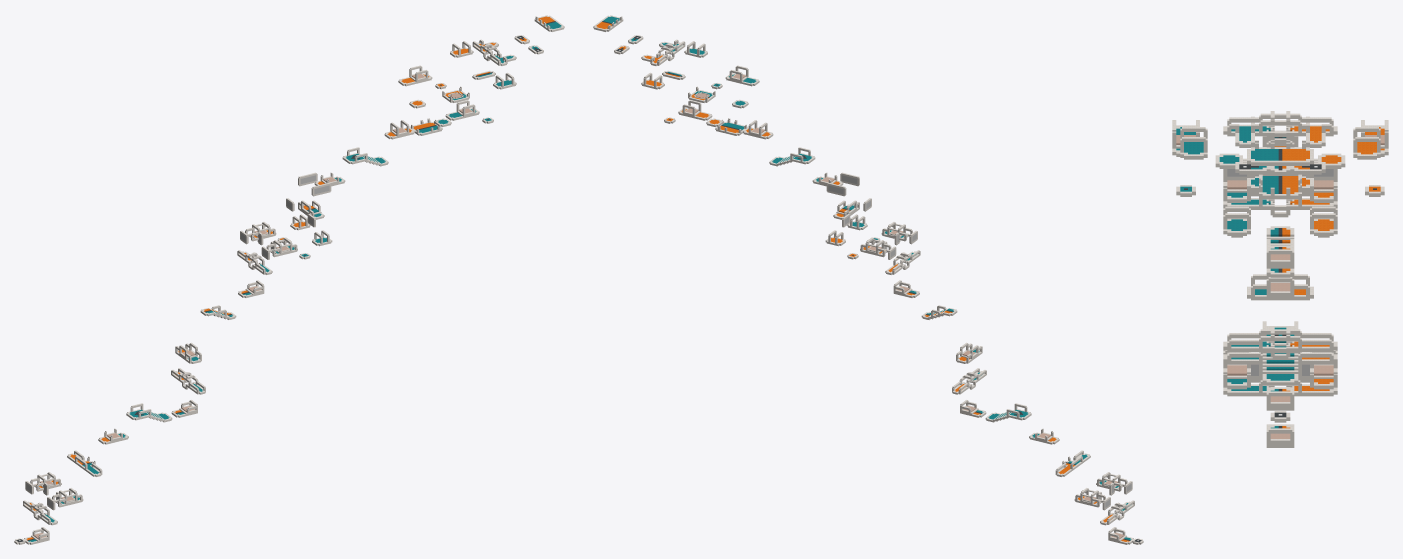
File: minecraft.obj
3 views of the same model, side by side, from view 1: azimuth 30°, elevation 25°; view 2: azimuth 150°, elevation 25°; view 3: azimuth 270°, elevation 25° (orthographic). The views are drawn at different scales.
Bounding box in the file's own units: 318 × 222 × 55.
